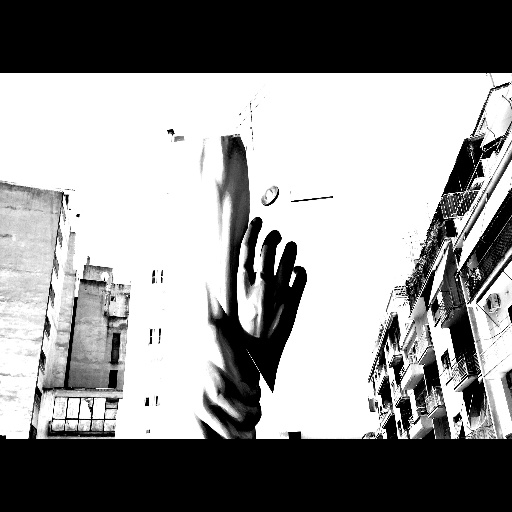hand: (237, 213, 307, 362), (191, 327, 261, 442)
